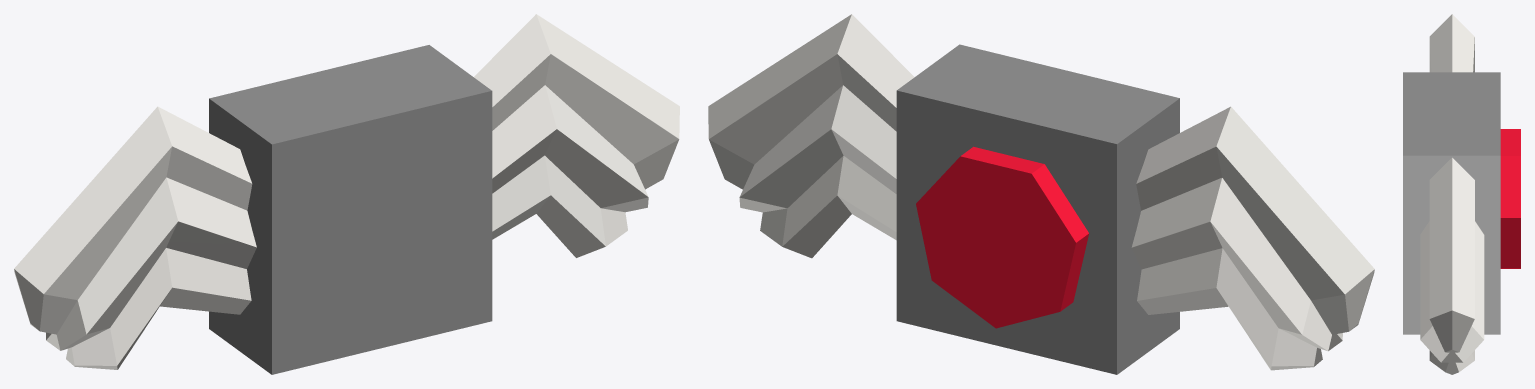
File: bouton.glb
3 views of the same model, side by side, from view 1: azimuth 30°, elevation 25°; view 2: azimuth 150°, elevation 25°; view 3: azimuth 270°, elevation 25° (orthographic). The views are drawn at different scales.
Visible parts, largest first — view 1: box, aileG, aileD; view 2: box, aileG, aileD, button; view 3: box, aileD, button, aileG.
Part boxes in pixels (x1,y1,x2,y2): box: (209,45,492,374); aileG: (14,106,256,369); aileD: (474,14,679,257); box: (896,44,1179,374); aileG: (1131,106,1374,370); aileD: (708,14,914,258); button: (916,146,1088,328); box: (1403,72,1500,334); aileD: (1420,157,1484,374); button: (1500,129,1520,268); aileG: (1429,14,1474,72).
Size of the model in its own units: 1.51 by 0.5761 by 0.2987.
Materials: 1 (1 with a texture image).
